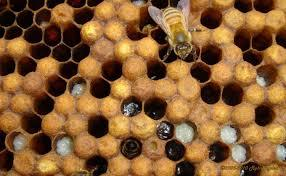worker-bee: (148, 0, 201, 59)
